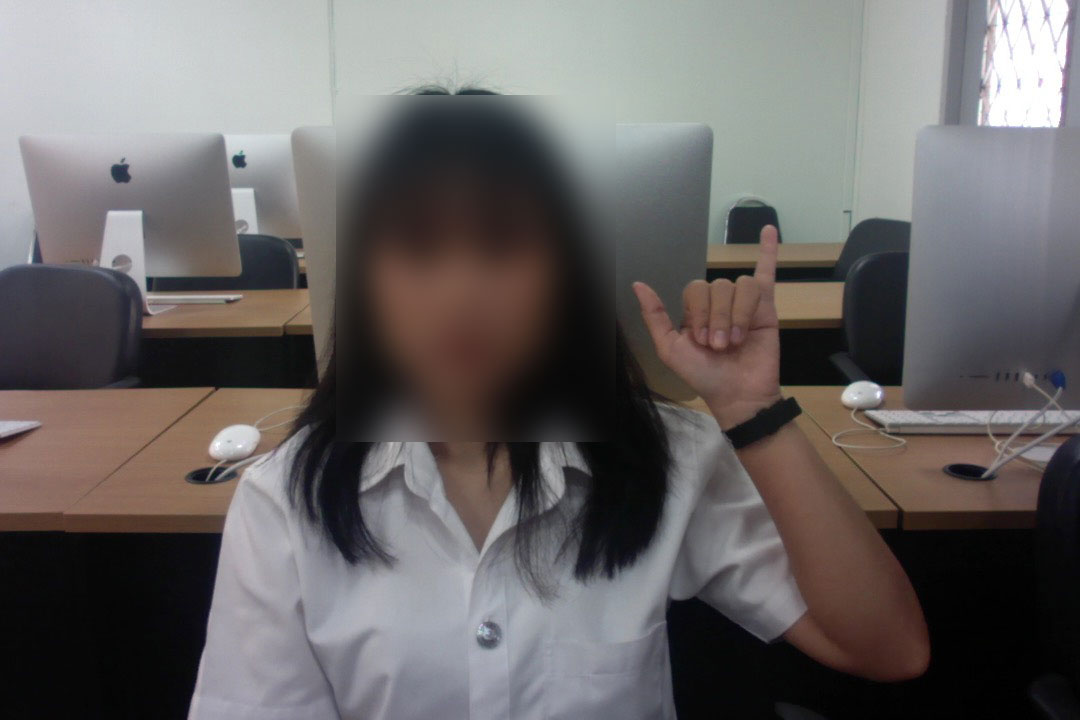yor: (627, 218, 786, 421)
